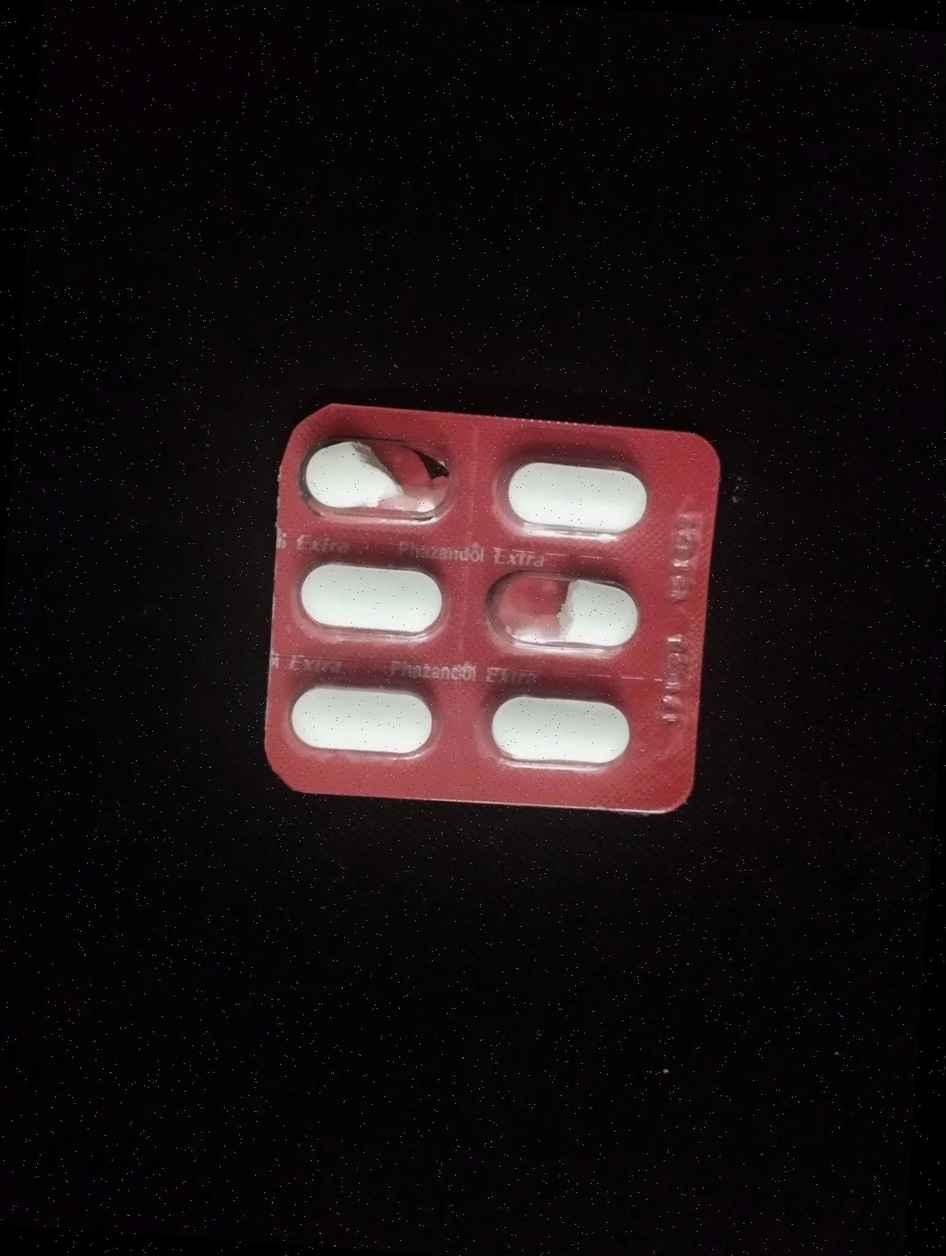Full: (285, 667, 445, 768), (481, 683, 642, 781), (291, 549, 448, 645), (493, 453, 652, 544)
Partial: (296, 421, 458, 530), (478, 564, 644, 668)
